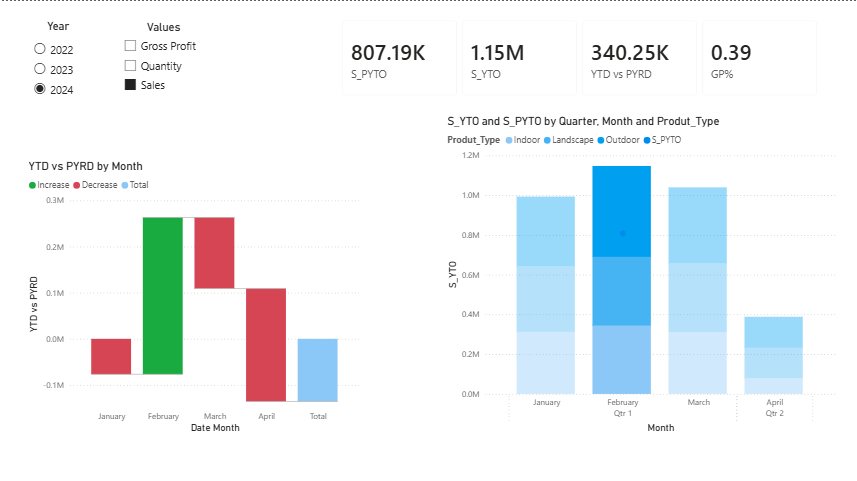

This screenshot's page, from the dashboard's own definition file:
{"tool":"powerbi","page":{"name":"Page 1","canvas":[1280,720],"ordinal":0},"visuals":[{"type":"listSlicer","fields":{"Values":["Dim_Date.Date.Variation.Date Hierarchy.Year"]},"box":[0,26.9,173.1,143.3],"z":1000},{"type":"cardVisual","fields":{"Data":["_Measures.S_PYTO","_Measures.S_YTO","_Measures.YTD vs PYRD","_Measures.GP%"]},"box":[494,11.9,744.8,146.3],"z":2000},{"type":"waterfallChart","fields":{"Y":["_Measures.YTD vs PYRD"],"Category":["Dim_Date.Date.Variation.Date Hierarchy.Month"]},"box":[37.3,235.8,504.5,414.9],"z":3000},{"type":"lineStackedColumnComboChart","fields":{"Y":["_Measures.S_YTO"],"Y2":["_Measures.S_PYTO"],"Category":["Dim_Date.Date.Variation.Date Hierarchy.Quarter","Dim_Date.Date.Variation.Date Hierarchy.Month"],"Series":["Dim_Product.Produt_Type"]},"box":[662.7,168.7,589.6,482.1],"z":3001},{"type":"slicer","title":"Values","fields":{"Values":["Slc_Values.Values"]},"box":[173.1,28.4,141.8,141.8],"z":3002}]}

Visuals, with their boxes in screenshot pixels (x1, y1, x2, y2), scaled from the page's 1280x720 canvas onto the 857x481 screenshot:
listSlicer - Dim_Date.Date.Variation.Date Hierarchy.Year: <region>0, 18, 116, 114</region>
cardVisual - _Measures.S_PYTO x _Measures.S_YTO: <region>331, 8, 829, 106</region>
waterfallChart - _Measures.YTD vs PYRD x Dim_Date.Date.Variation.Date Hierarchy.Month: <region>25, 158, 363, 435</region>
lineStackedColumnComboChart - _Measures.S_YTO x _Measures.S_PYTO: <region>444, 113, 838, 435</region>
"Values" slicer: <region>116, 19, 211, 114</region>
